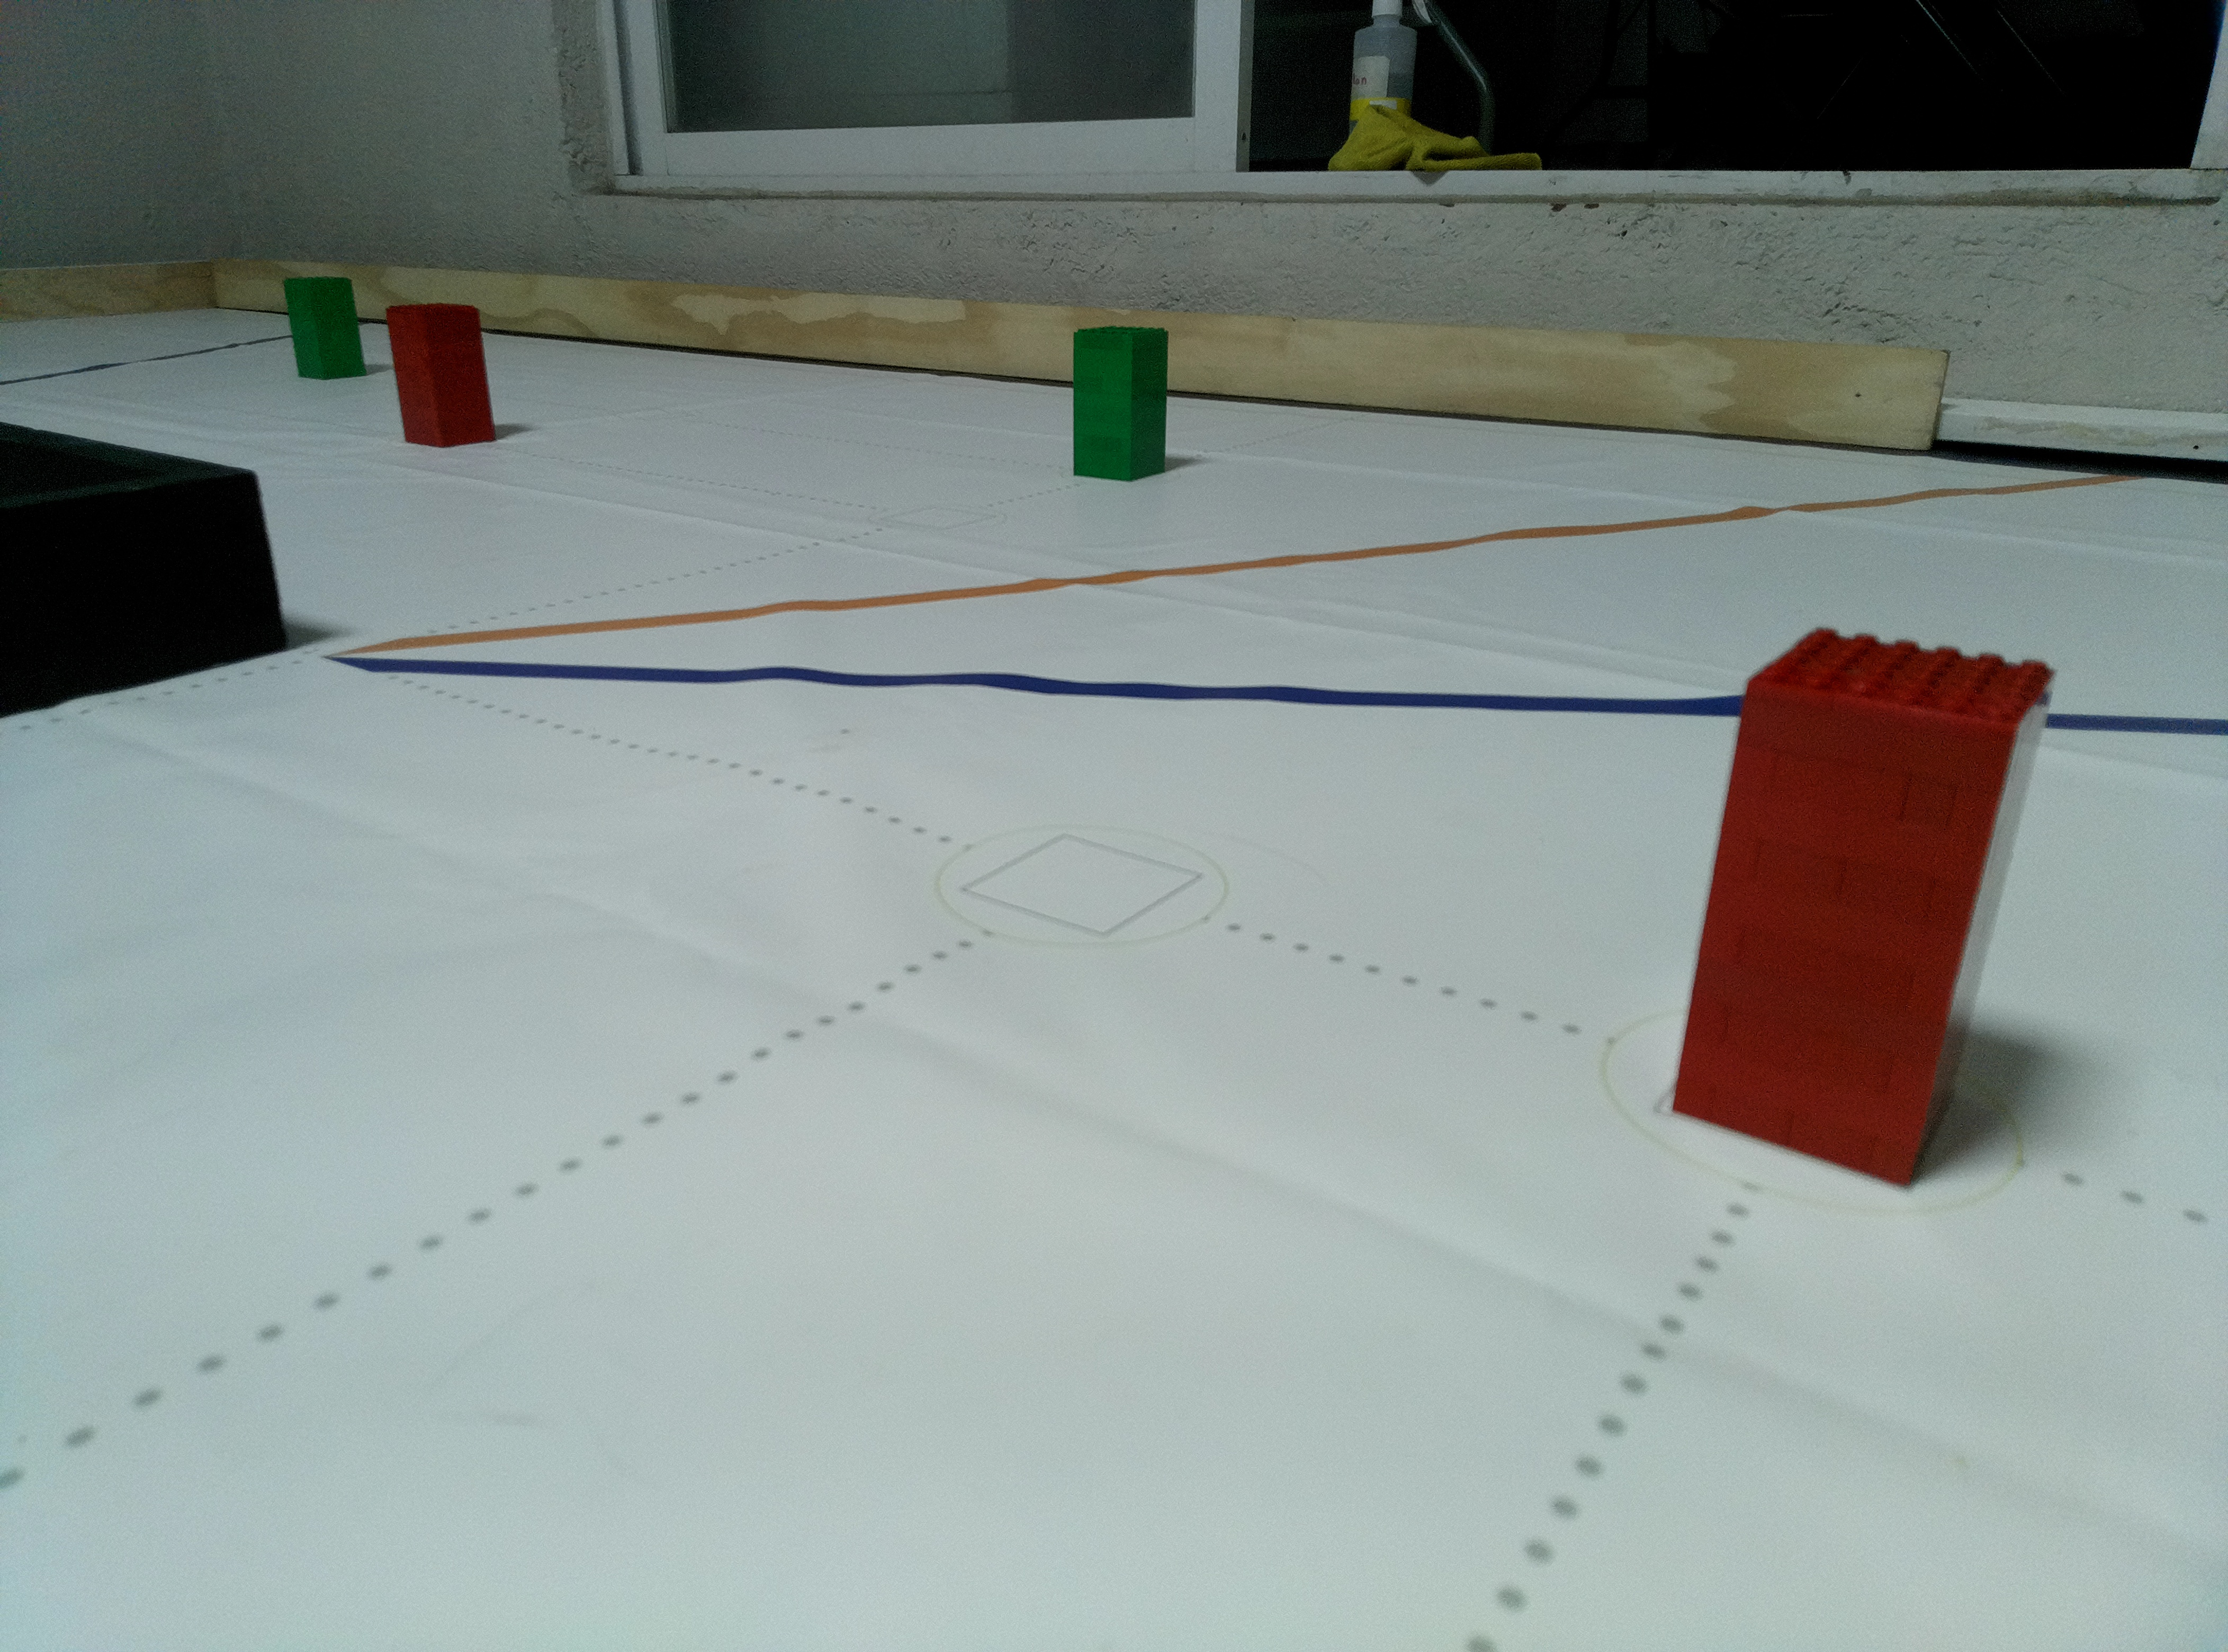greenbox: (1071, 323, 1171, 484), (279, 274, 370, 382)
redbox: (1666, 623, 2061, 1190), (383, 300, 500, 449)
